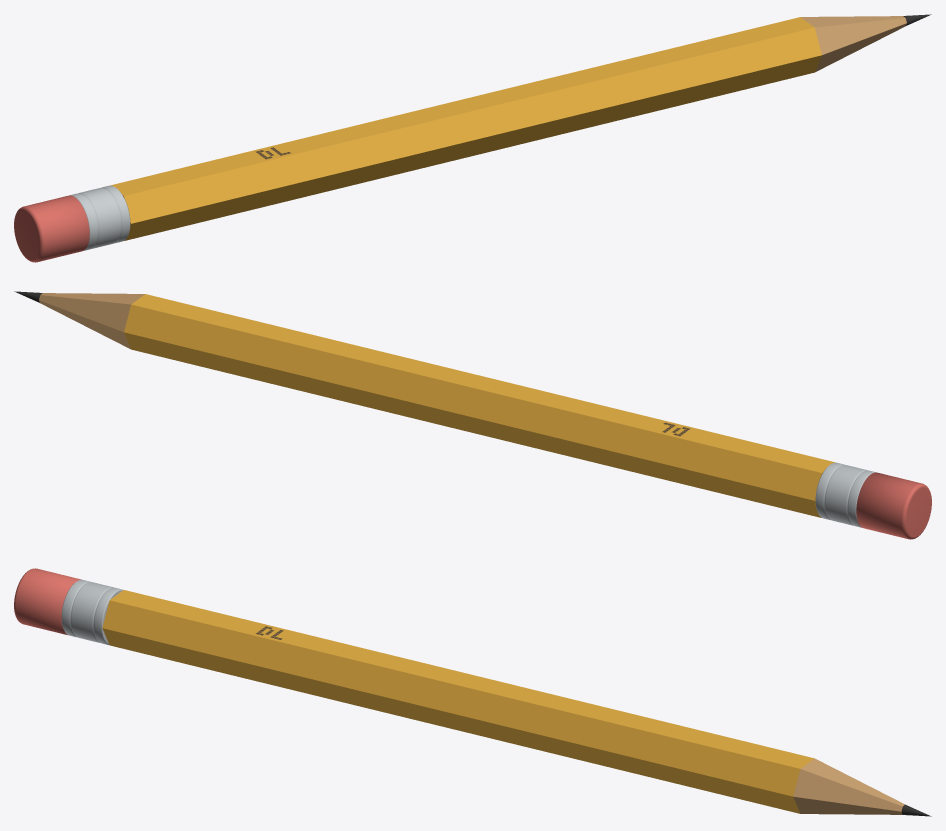
Rendered from pencil-final-details.glb.
The picture shows the model from 3 angles, top to bottom: view 1: azimuth 30°, elevation 25°; view 2: azimuth 150°, elevation 25°; view 3: azimuth 330°, elevation 25°; orthographic projection.
Parts seen in each view (by area): view 1: Refined_Pencil_Shaft, Refined_Pencil_Eraser, Refined_Pencil_Wood, Refined_Pencil_Ferrule; view 2: Refined_Pencil_Shaft, Refined_Pencil_Eraser, Refined_Pencil_Wood, Refined_Pencil_Ferrule; view 3: Refined_Pencil_Shaft, Refined_Pencil_Wood, Refined_Pencil_Eraser, Refined_Pencil_Ferrule.
Boxes of the visible parts, box(x1,y1,x2,y2) form: Refined_Pencil_Shaft: box(110, 17, 821, 240); Refined_Pencil_Eraser: box(14, 195, 89, 262); Refined_Pencil_Wood: box(801, 16, 906, 72); Refined_Pencil_Ferrule: box(70, 185, 130, 250); Refined_Pencil_Shaft: box(124, 294, 835, 517); Refined_Pencil_Eraser: box(856, 472, 931, 539); Refined_Pencil_Wood: box(39, 293, 144, 349); Refined_Pencil_Ferrule: box(815, 462, 875, 527); Refined_Pencil_Shaft: box(102, 590, 814, 813); Refined_Pencil_Wood: box(793, 758, 904, 814); Refined_Pencil_Eraser: box(14, 568, 81, 634); Refined_Pencil_Ferrule: box(61, 579, 122, 644).
Bounding box in the file's own units: 0.1965 × 0.0108 × 0.0108.
